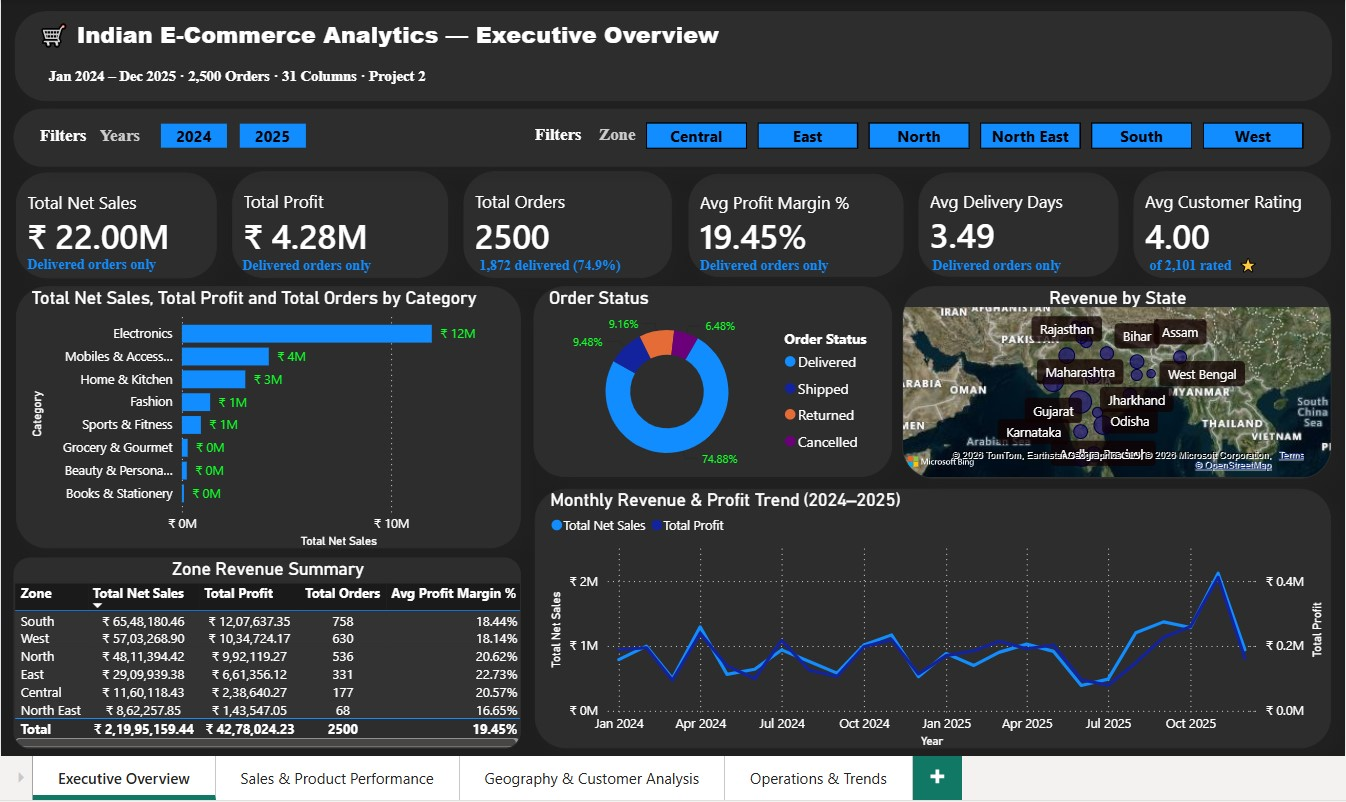

The page's visual inventory and layout, read from the dashboard file:
{"tool":"powerbi","page":{"name":"Executive Overview","canvas":[1280,720],"ordinal":0},"visuals":[{"type":"cardVisual","fields":{"Data":["Core KPI Measures.Avg Customer Rating"]},"box":[1078.4,163.2,187.7,101.6],"z":0},{"type":"cardVisual","fields":{"Data":["Core KPI Measures.Avg Delivery Days"]},"box":[873.5,164.4,190.1,99.2],"z":1000},{"type":"cardVisual","fields":{"Data":["Core KPI Measures.Total Net Sales"]},"box":[14.3,163.8,191.3,100.4],"z":2000},{"type":"cardVisual","fields":{"Data":["Core KPI Measures.Total Profit"]},"box":[220.5,163.2,205.6,101.6],"z":3000},{"type":"cardVisual","fields":{"Data":["Core KPI Measures.Total Orders"]},"box":[440.9,163.2,198.5,101.6],"z":4000},{"type":"shape","box":[13.4,11,1254.6,85.3],"z":5000},{"type":"cardVisual","fields":{"Data":["Core KPI Measures.Avg Profit Margin %1"]},"box":[654.2,165,204.4,98],"z":6000},{"type":"lineChart","title":"Monthly Revenue & Profit Trend (2024–2025)","fields":{"Category":["Date Table.Date.Variation.Date Hierarchy.Year","Date Table.Date.Variation.Date Hierarchy.Month"],"Y":["Core KPI Measures.Total Net Sales"],"Y2":["Core KPI Measures.Total Profit"]},"box":[508.1,465.1,758,247.5],"z":7000},{"type":"shape","box":[12.2,103.6,1254.6,54.9],"z":8000},{"type":"textbox","box":[36.3,18.2,671.6,35.1],"z":9000},{"type":"textbox","box":[44.8,62.9,382.4,20.6],"z":10000},{"type":"textbox","box":[36.6,120.7,57.3,20.7],"z":11000},{"type":"textbox","box":[93.9,120.7,57.3,20.7],"z":12000},{"type":"clusteredBarChart","fields":{"Category":["ecommerce_sales_clean_csv.category"],"Y":["Core KPI Measures.Total Net Sales"]},"box":[14.3,272.6,480.6,249.9],"z":13000},{"type":"donutChart","title":"Order Status","fields":{"Y":["Core KPI Measures.Total Orders"],"Category":["ecommerce_sales_clean_csv.order_status"]},"box":[506.9,272.6,341.9,181.7],"z":14000},{"type":"map","title":"Revenue by State","fields":{"Category":["ecommerce_sales_clean_csv.state"],"Size":["Core KPI Measures.Total Net Sales"]},"box":[858.4,272.6,408.9,182.9],"z":15000},{"type":"tableEx","title":"Zone Revenue Summary","fields":{"Values":["ecommerce_sales_clean_csv.zone","Core KPI Measures.Total Net Sales","Core KPI Measures.Total Profit","Core KPI Measures.Total Orders","Core KPI Measures.Avg Profit Margin %"]},"box":[11.9,531,483.3,182.1],"z":16000},{"type":"advancedSlicerVisual","fields":{"Values":["Date Table.Year"]},"box":[151.3,116.2,140.4,25.4],"z":17000},{"type":"textbox","box":[508,118.6,57.3,20.7],"z":18000},{"type":"textbox","box":[565.3,118.6,57.3,20.7],"z":19000},{"type":"advancedSlicerVisual","fields":{"Values":["ecommerce_sales_clean_csv.zone"]},"box":[614.7,116.2,630.4,25.4],"z":20000},{"type":"textbox","box":[25.1,241.8,129.1,21.5],"z":21000},{"type":"textbox","box":[229.6,243,133.9,19.1],"z":22000},{"type":"textbox","box":[451.9,242.7,163.8,19.1],"z":23000},{"type":"textbox","box":[665.9,242.7,133.9,19.1],"z":24000},{"type":"textbox","box":[887.1,243,133.9,19.1],"z":25000},{"type":"textbox","box":[1090.4,242.7,131.5,19.1],"z":26000}]}

Visuals, with their boxes on the page's 1280x720 design canvas (x1, y1, x2, y2). These are canvas units, not pixel positions in the 1346x802 screenshot, which may show the page scaled, cropped or inside an application window:
cardVisual - Core KPI Measures.Avg Customer Rating: [1078,163,1266,265]
cardVisual - Core KPI Measures.Avg Delivery Days: [874,164,1064,264]
cardVisual - Core KPI Measures.Total Net Sales: [14,164,206,264]
cardVisual - Core KPI Measures.Total Profit: [220,163,426,265]
cardVisual - Core KPI Measures.Total Orders: [441,163,639,265]
shape: [13,11,1268,96]
cardVisual - Core KPI Measures.Avg Profit Margin %1: [654,165,859,263]
"Monthly Revenue & Profit Trend (2024–2025)" lineChart: [508,465,1266,713]
shape: [12,104,1267,158]
textbox: [36,18,708,53]
textbox: [45,63,427,84]
textbox: [37,121,94,141]
textbox: [94,121,151,141]
clusteredBarChart - ecommerce_sales_clean_csv.category x Core KPI Measures.Total Net Sales: [14,273,495,522]
"Order Status" donutChart: [507,273,849,454]
"Revenue by State" map: [858,273,1267,456]
"Zone Revenue Summary" tableEx: [12,531,495,713]
advancedSlicerVisual - Date Table.Year: [151,116,292,142]
textbox: [508,119,565,139]
textbox: [565,119,623,139]
advancedSlicerVisual - ecommerce_sales_clean_csv.zone: [615,116,1245,142]
textbox: [25,242,154,263]
textbox: [230,243,364,262]
textbox: [452,243,616,262]
textbox: [666,243,800,262]
textbox: [887,243,1021,262]
textbox: [1090,243,1222,262]
